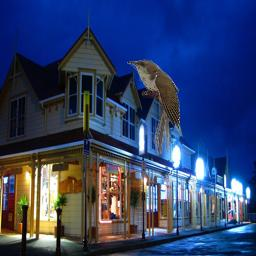Cuckoo: (127, 59, 180, 155)
